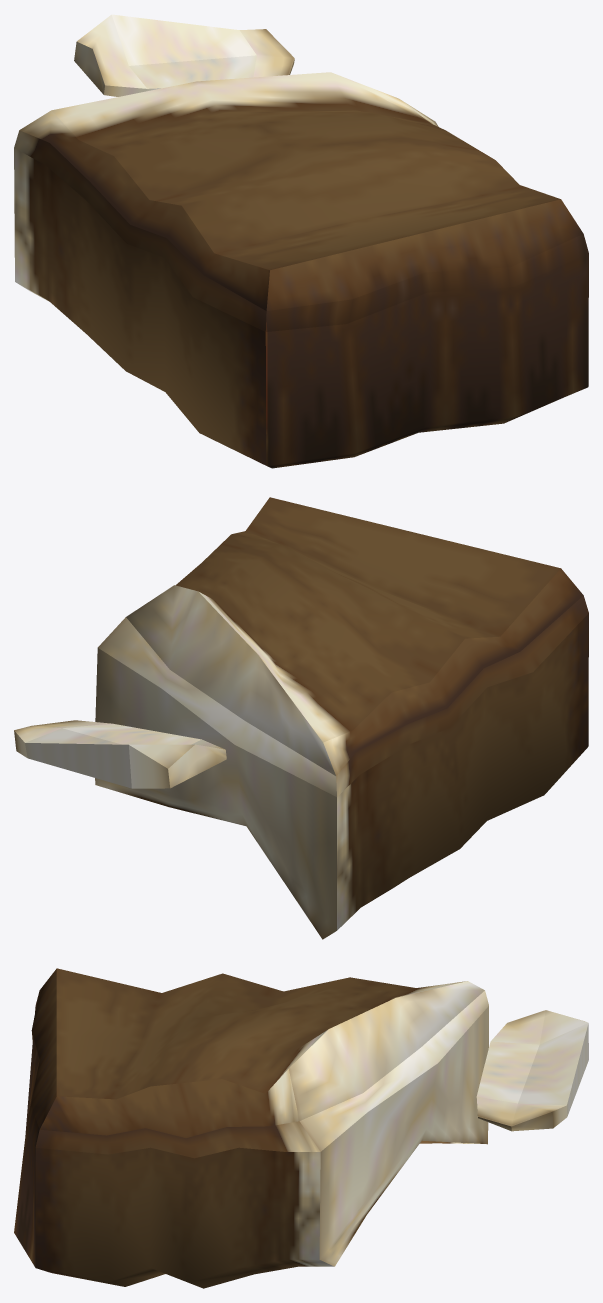
Rendered from Inside_Poly_Bed_02_Blanket_02.obj.
3 renders of one model, top to bottom at view 1: azimuth 30°, elevation 25°; view 2: azimuth 150°, elevation 25°; view 3: azimuth 270°, elevation 25°, orthographic. The views are drawn at different scales.
Visible parts, largest first — view 1: Cube.003, Cube.004; view 2: Cube.003, Cube.004; view 3: Cube.003, Cube.004.
Boxes of the visible parts, x1,y1,x2,y2 form: Cube.003: [14, 72, 588, 468]; Cube.004: [74, 14, 294, 96]; Cube.003: [95, 497, 588, 939]; Cube.004: [14, 720, 226, 788]; Cube.003: [14, 968, 488, 1288]; Cube.004: [476, 1010, 588, 1131].
Bounding box in the file's own units: 1.09 × 0.722 × 1.73.
1 material, 1 textured.
